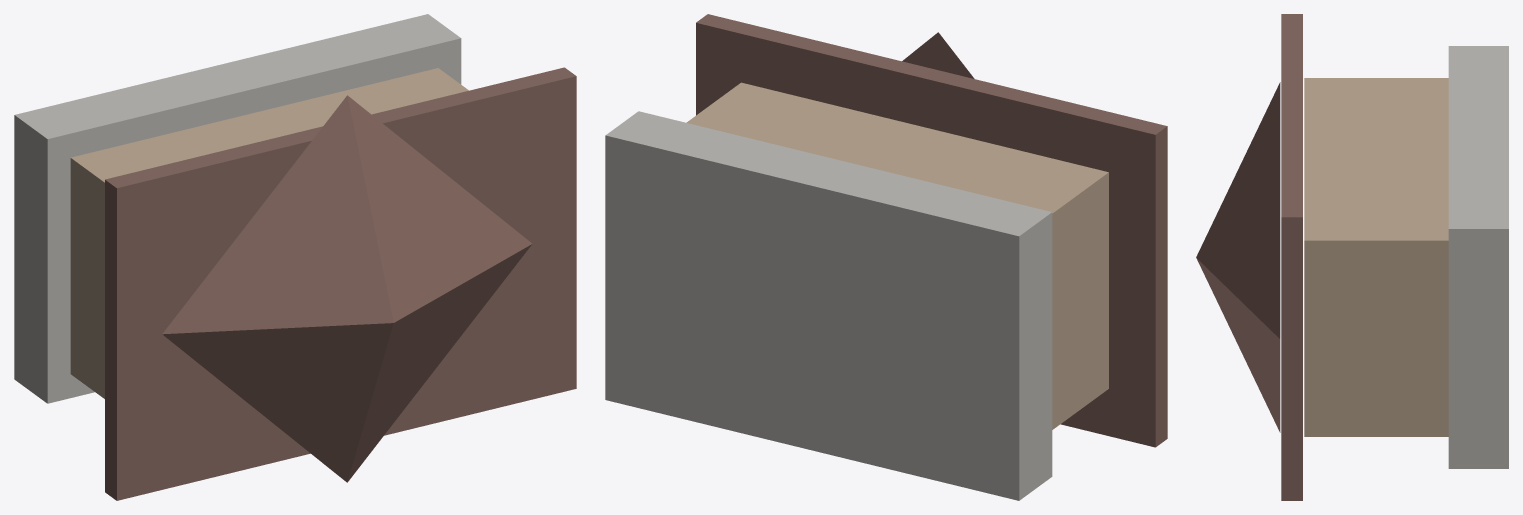
3 renders of one model, left to right at view 1: azimuth 30°, elevation 25°; view 2: azimuth 150°, elevation 25°; view 3: azimuth 270°, elevation 25°, orthographic. The views are drawn at different scales.
Parts seen in each view (by area): view 1: part2, part3, part0, part1; view 2: part0, part2, part1, part3; view 3: part1, part0, part3, part2.
Boxes of the visible parts, x1,y1,x2,y2 form: part2: (105,67,576,500); part3: (162,95,532,482); part0: (14,14,461,403); part1: (70,68,468,398); part0: (605,111,1052,500); part2: (696,14,1167,447); part1: (686,82,1108,429); part3: (902,32,974,78); part1: (1304,78,1448,436); part0: (1448,46,1508,468); part3: (1196,82,1280,432); part2: (1281,14,1302,500).
Bounding box in the file's own units: 4 × 3.22 × 2.6.
